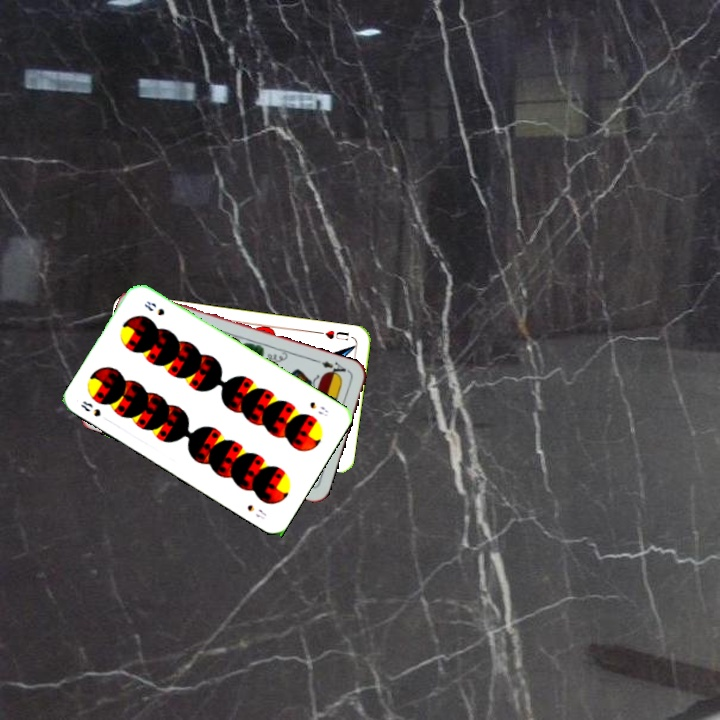EA: (312, 356, 352, 380)
HU: (321, 326, 351, 343)
S8: (77, 397, 103, 419), (306, 398, 330, 419)
